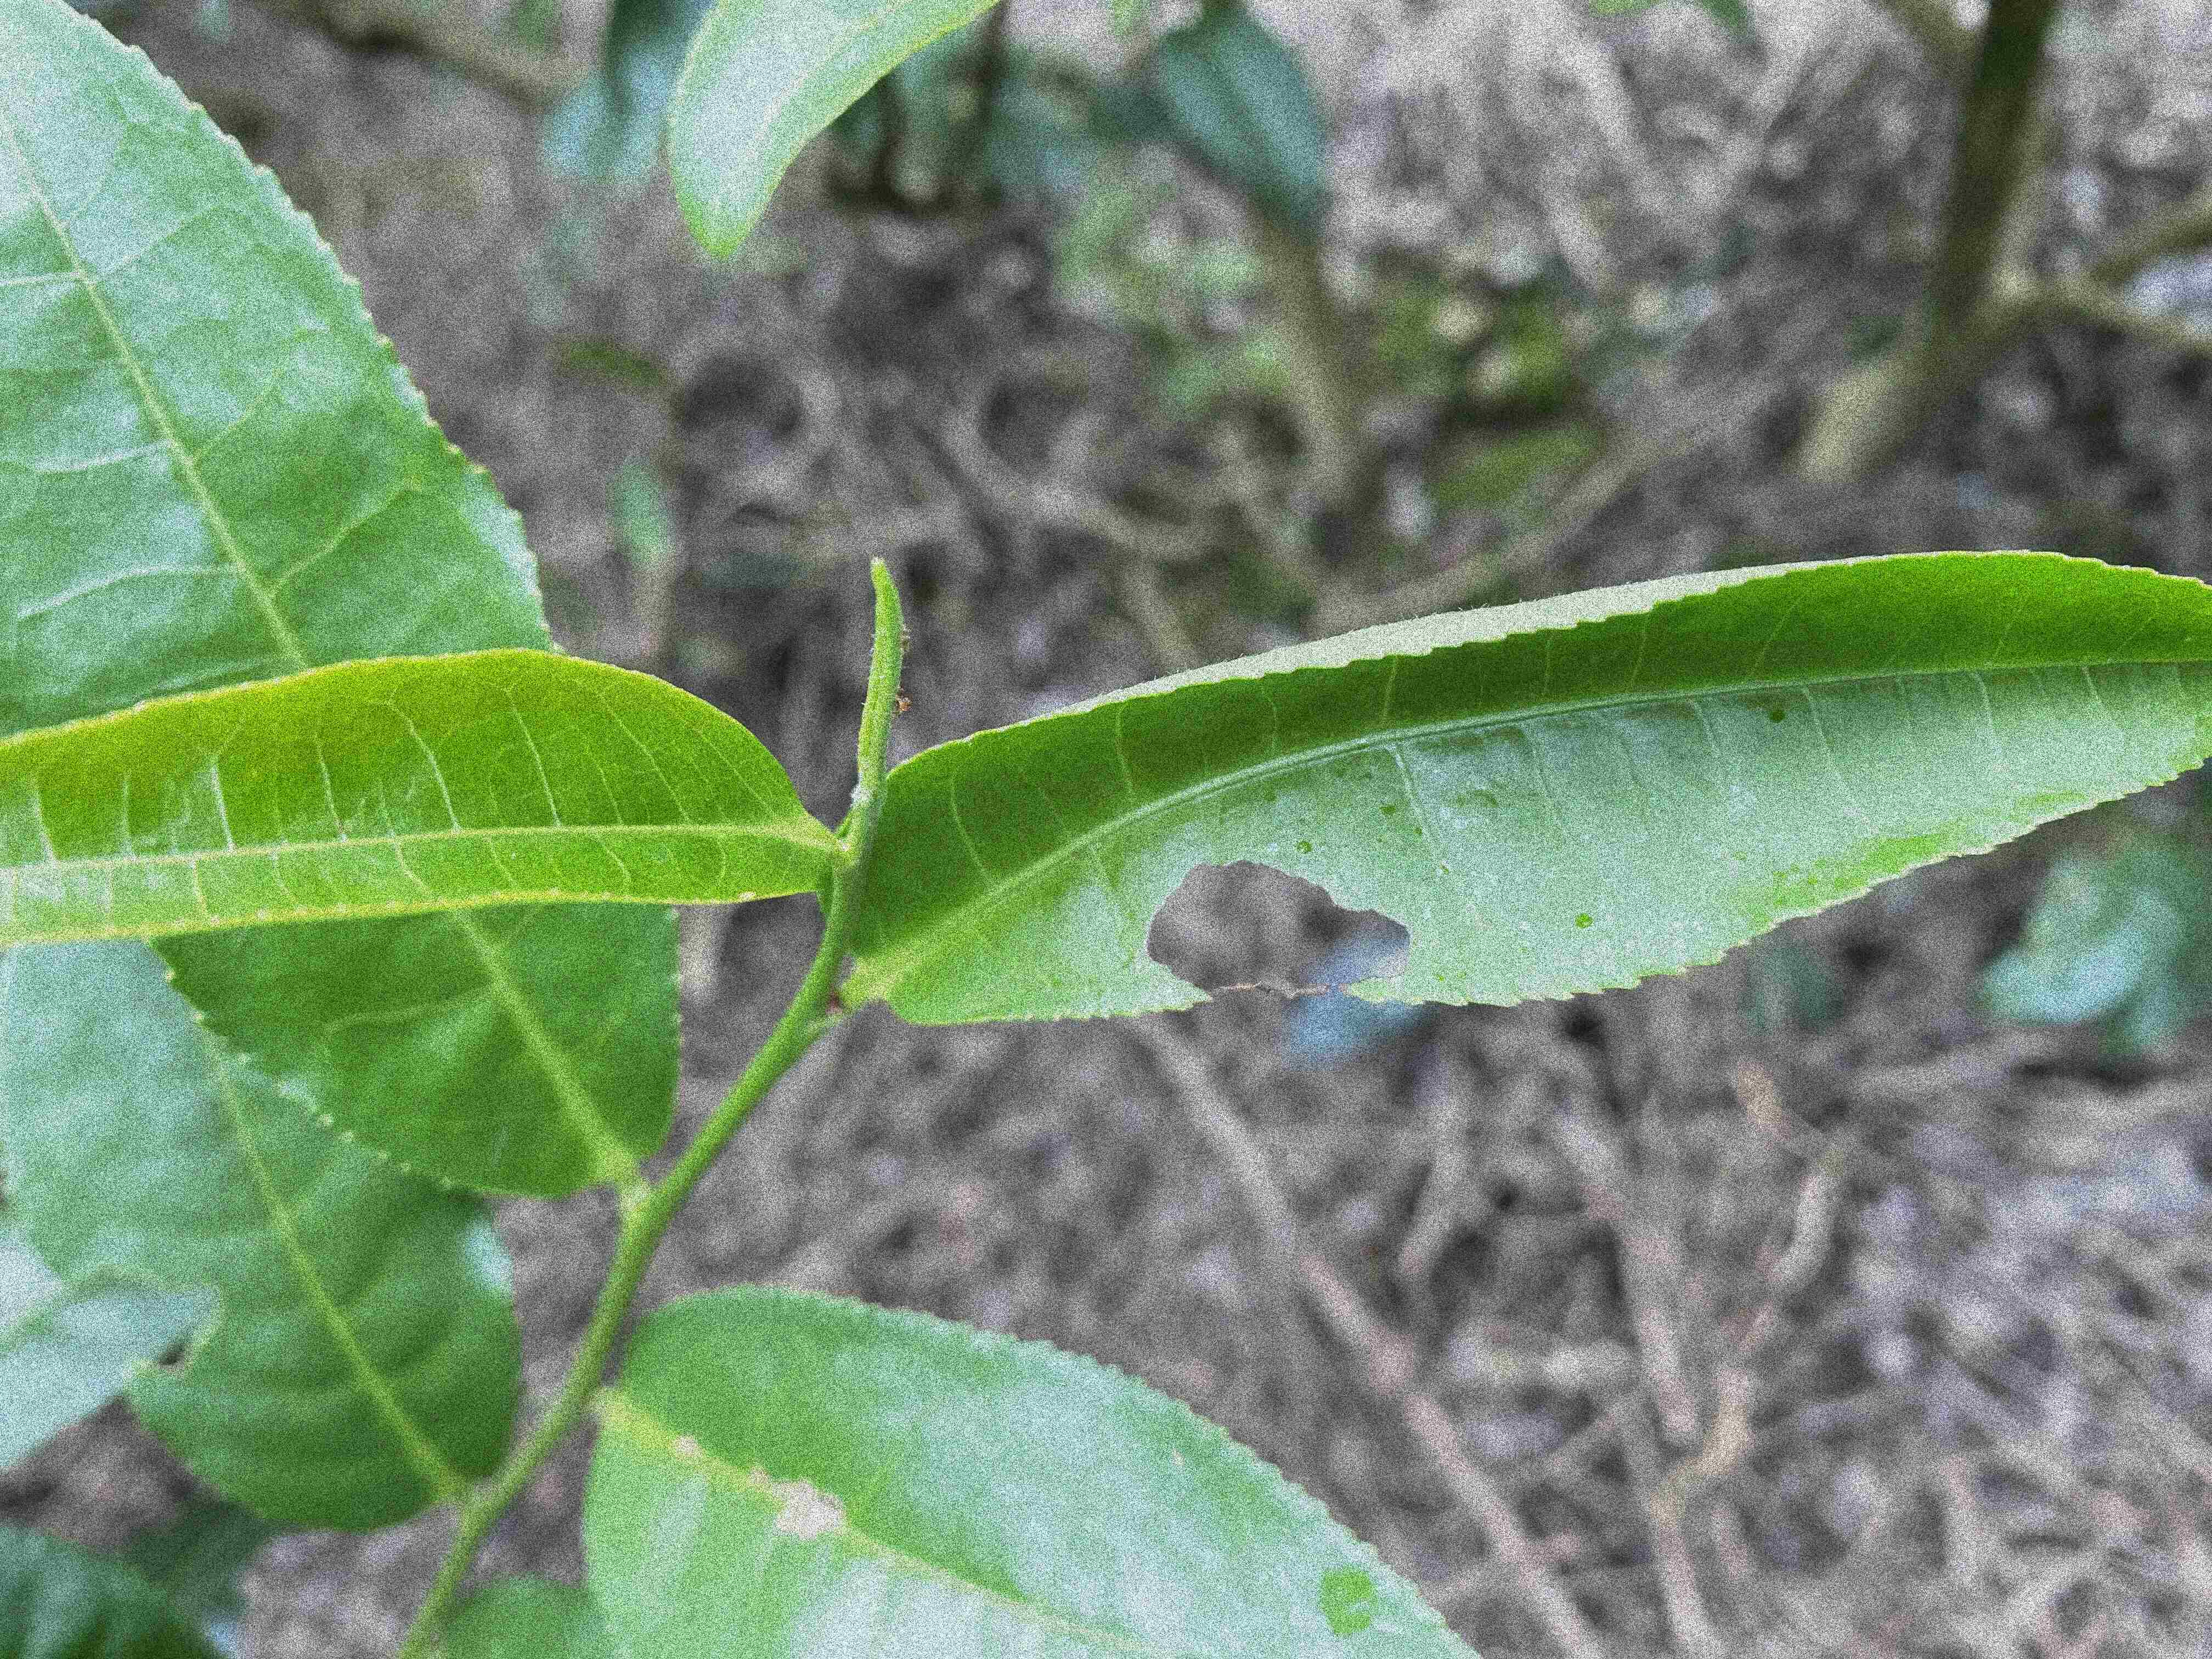chihuo_low: (822, 544, 2212, 1026)
healthy: (3, 648, 827, 946)
tanju_low: (578, 1283, 1496, 1657)
